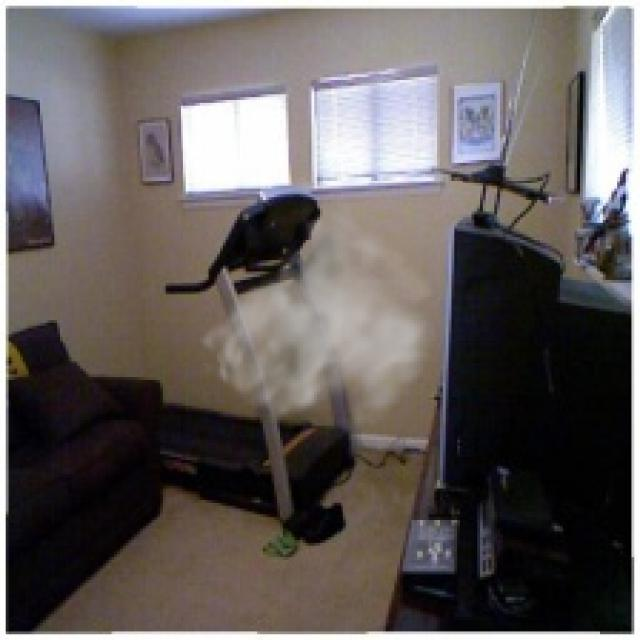smoke: (197, 191, 440, 443)
